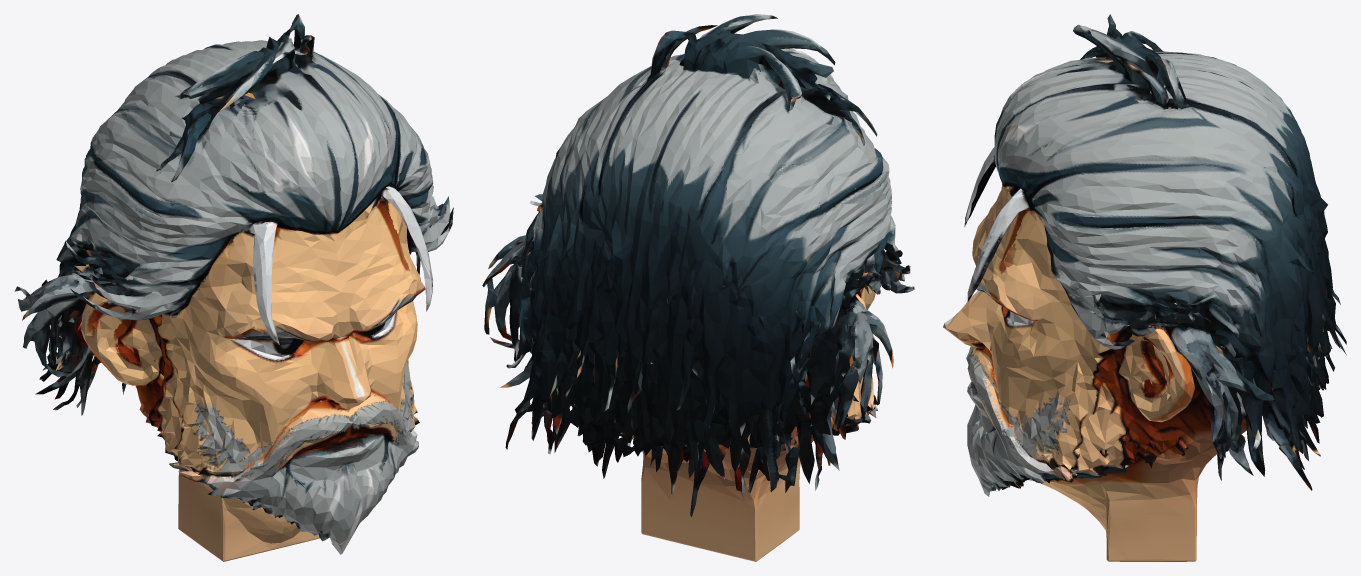
The model's file is side_h_veteran_repaired_atlas.glb.
3 renders of one model, left to right at view 1: azimuth 30°, elevation 25°; view 2: azimuth 150°, elevation 25°; view 3: azimuth 270°, elevation 25°, orthographic.
Visible parts, largest first — view 1: temp_mesh.ply; view 2: temp_mesh.ply; view 3: temp_mesh.ply.
Part boxes in pixels (<box>): temp_mesh.ply: <box>14,14,453,561</box>; temp_mesh.ply: <box>482,14,914,561</box>; temp_mesh.ply: <box>943,14,1346,561</box>.
Size of the model in its own units: 1.68 by 1.97 by 1.44.
Materials: 1 (1 with a texture image).
